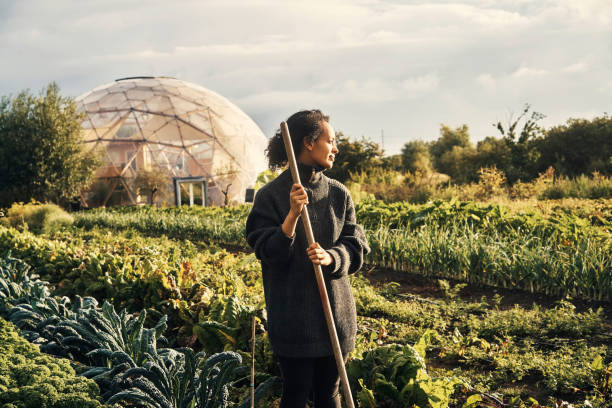without mask: (290, 119, 351, 172)
